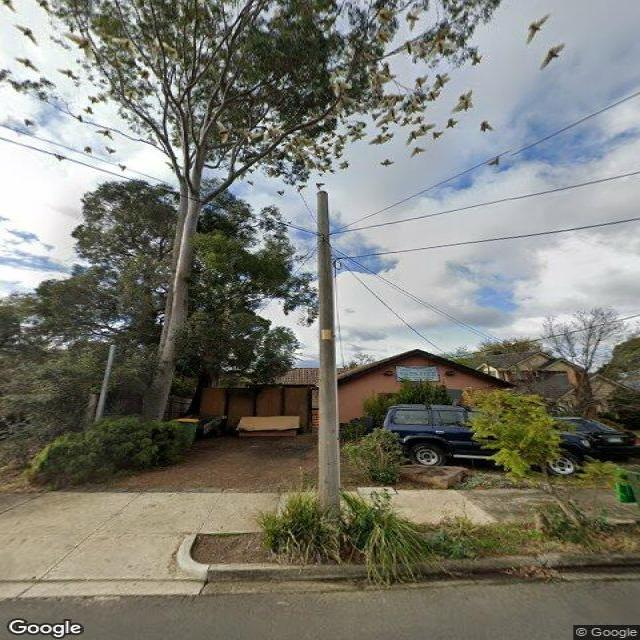timber-pole: (312, 187, 338, 558)
